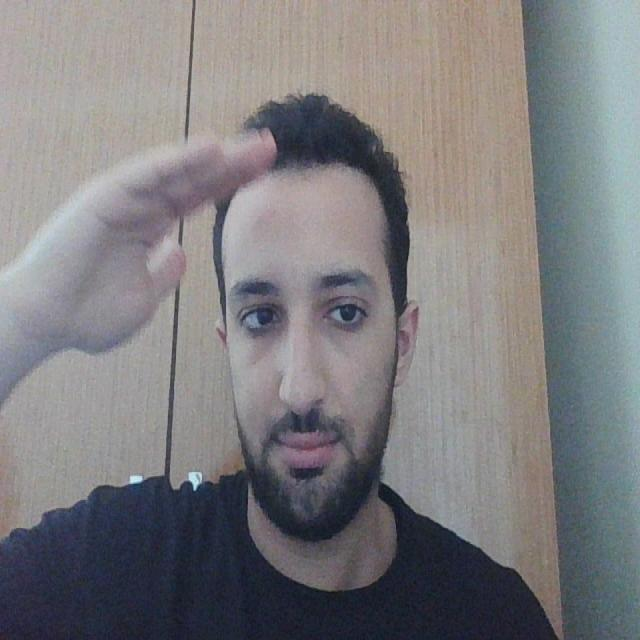Merhaba: (30, 80, 279, 443)
